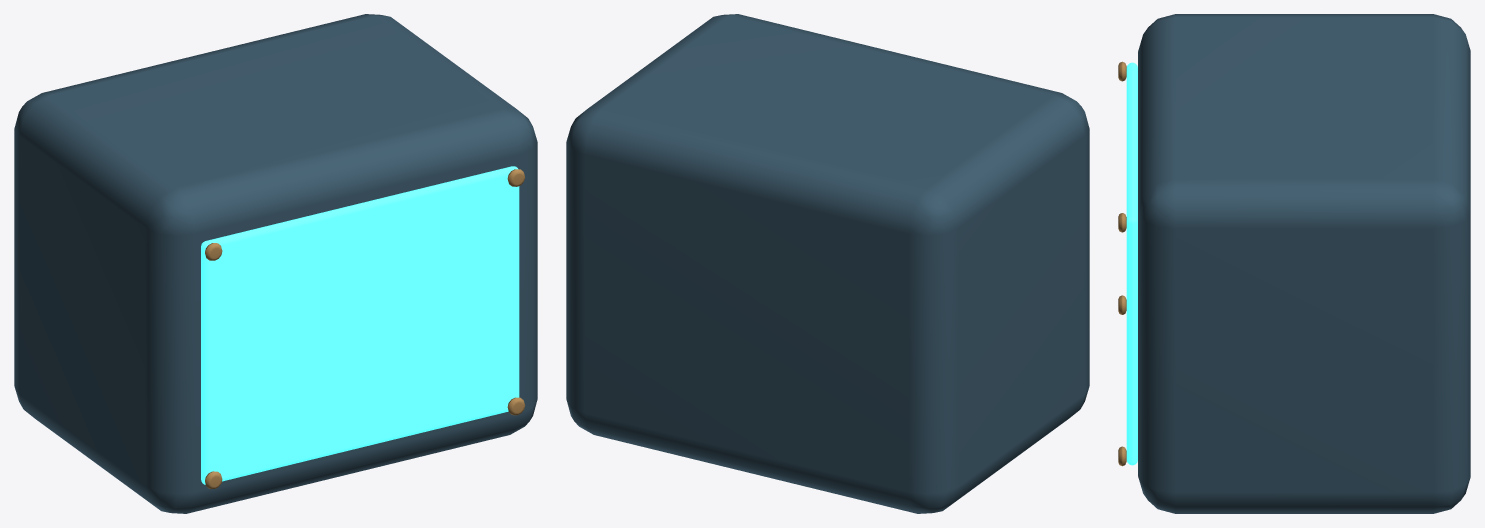
File: brick-premium.glb
3 renders of one model, left to right at view 1: azimuth 30°, elevation 25°; view 2: azimuth 150°, elevation 25°; view 3: azimuth 270°, elevation 25°, orthographic. The views are drawn at different scales.
Parts seen in each view (by area): view 1: BRICK_BODY, BRICK_INLAY; view 2: BRICK_BODY; view 3: BRICK_BODY, BRICK_INLAY.
Part boxes in pixels (x1,y1,x2,y2): BRICK_BODY: (14, 14, 537, 513); BRICK_INLAY: (201, 166, 519, 484); BRICK_BODY: (566, 14, 1089, 513); BRICK_BODY: (1138, 14, 1470, 513); BRICK_INLAY: (1126, 62, 1137, 465).
Size of the model in its own units: 0.55 by 0.44 by 0.424.
